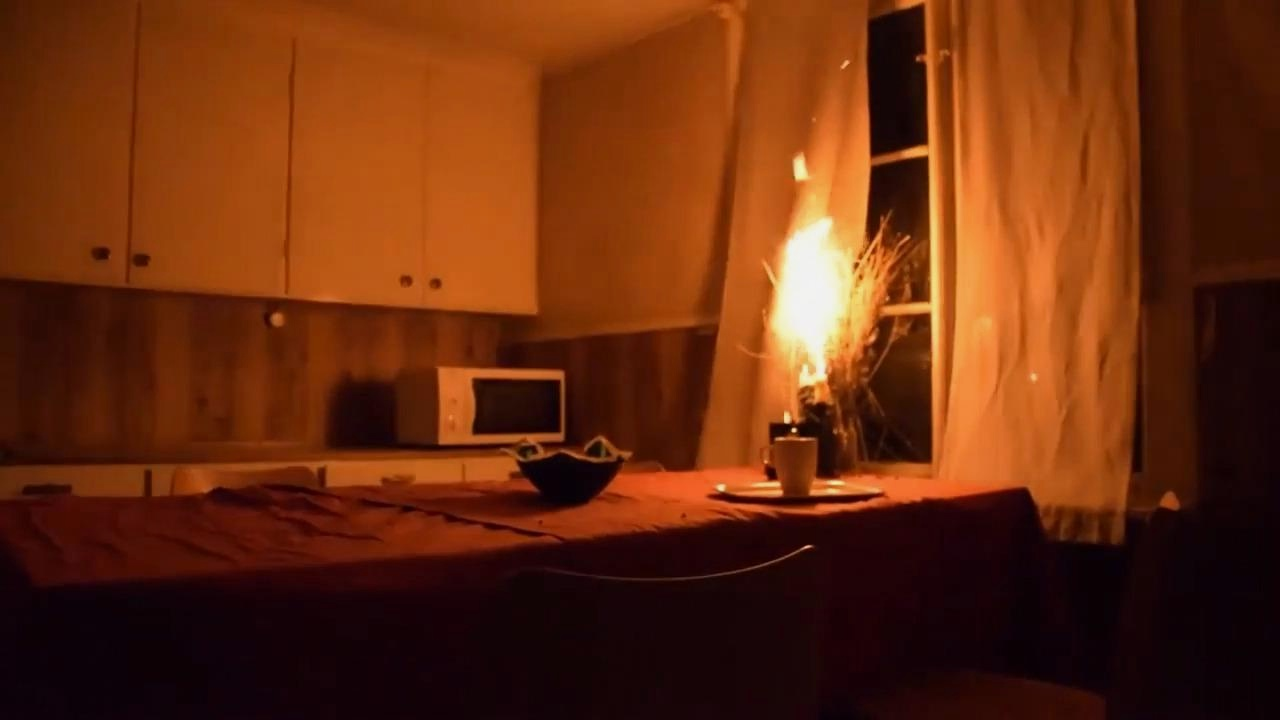fire: (729, 161, 874, 421)
